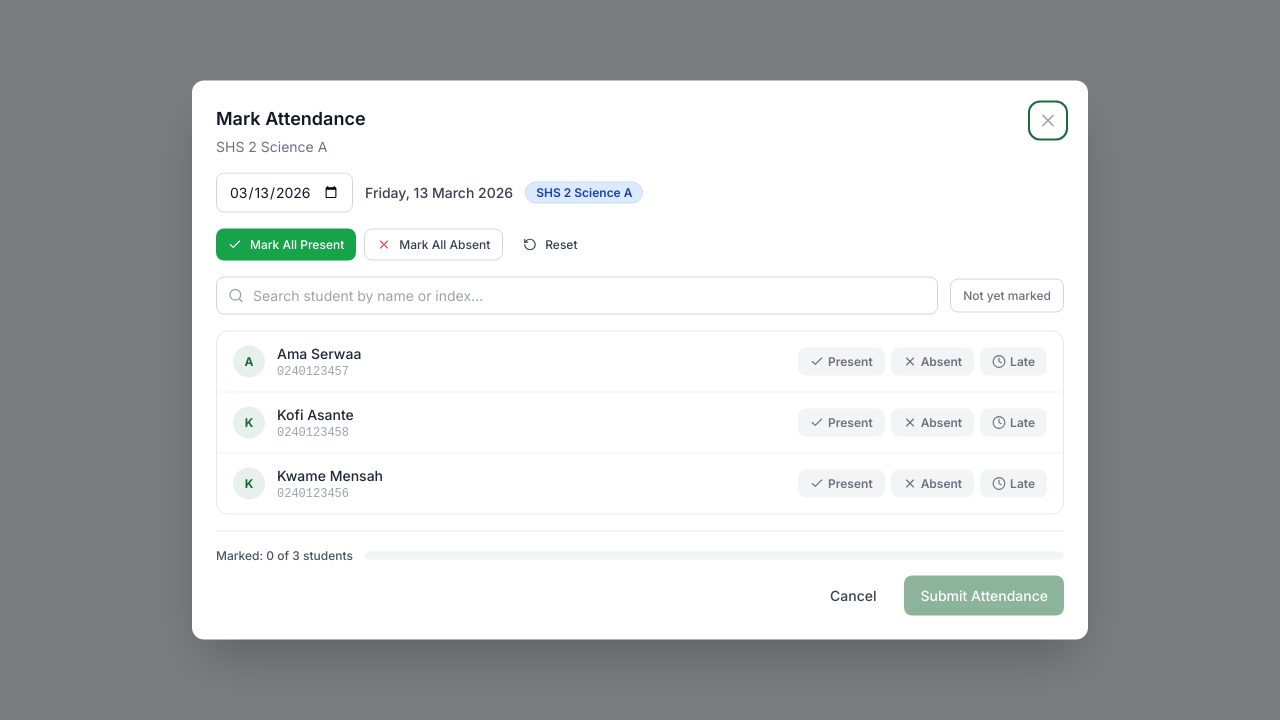
Test: AttendanceMarkingModal › marks all present when "Mark All Present" clicked
Click the button "Mark All Present" at point(286, 244), box 216,228 -> 356,260
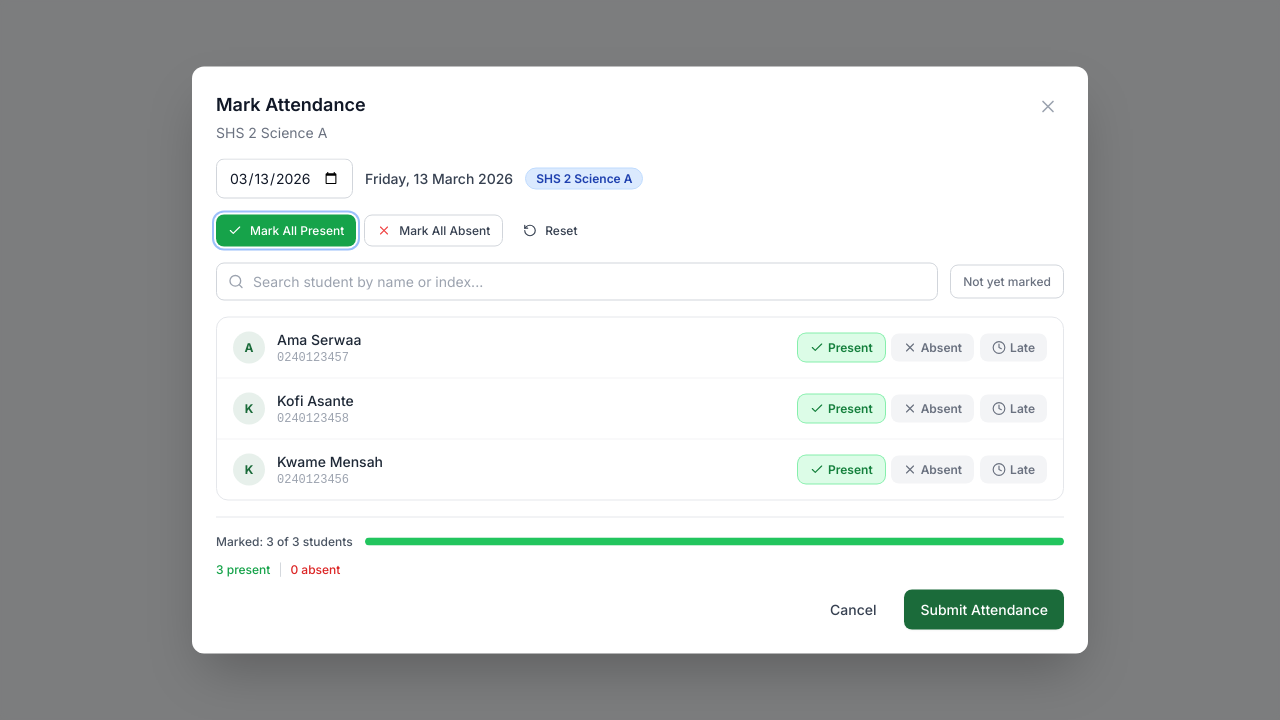
Now the text "3 present" is shown, box 216,562 -> 270,578
